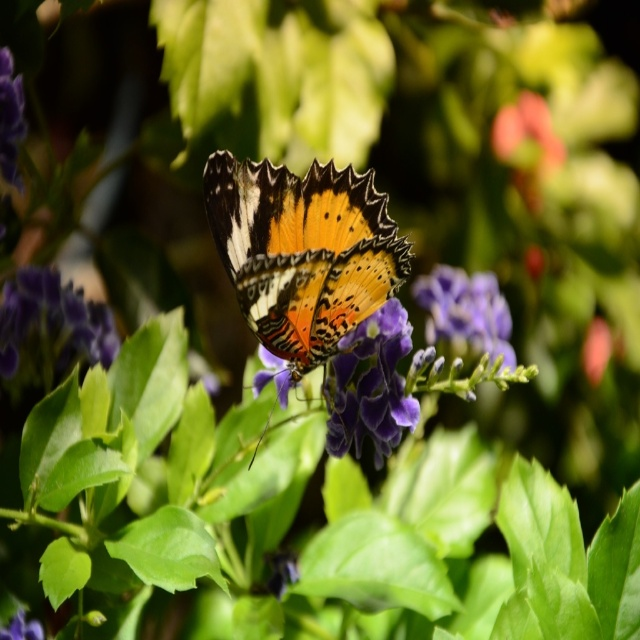Butterfly: (199, 127, 417, 388)
